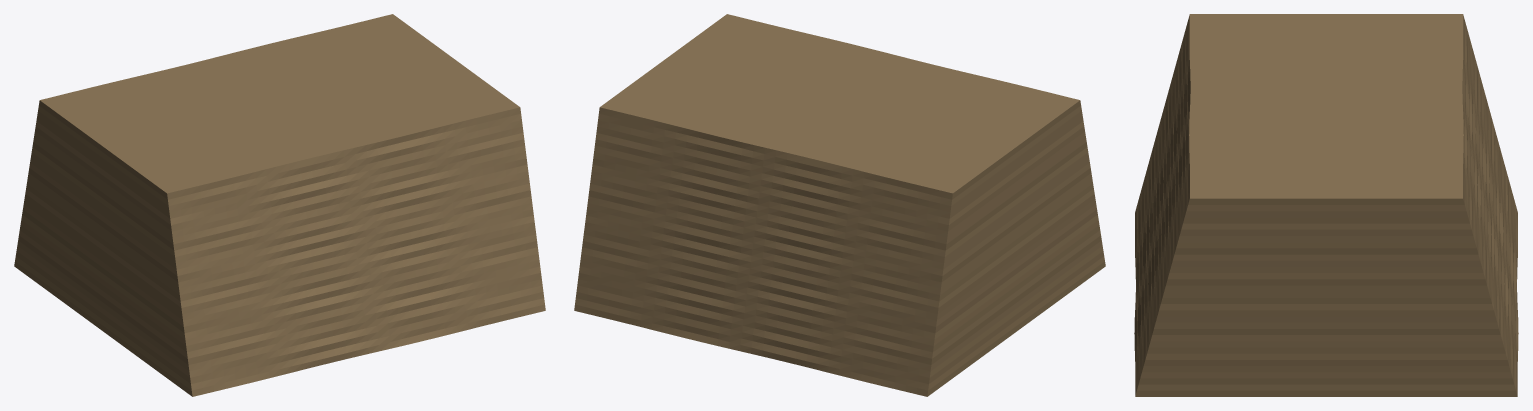
Rendered from earthwall-A-LOD0.glb.
3 renders of one model, left to right at view 1: azimuth 30°, elevation 25°; view 2: azimuth 150°, elevation 25°; view 3: azimuth 270°, elevation 25°, orthographic. The views are drawn at different scales.
Visible parts, largest first — view 1: earthwall-A-LOD0; view 2: earthwall-A-LOD0; view 3: earthwall-A-LOD0.
Part boxes in pixels (left/top/right/bottom): earthwall-A-LOD0: left=14, top=14, right=545, bottom=396; earthwall-A-LOD0: left=574, top=14, right=1105, bottom=396; earthwall-A-LOD0: left=1134, top=14, right=1518, bottom=396.
Bounding box in the file's own units: 16 × 8 × 14.05.
